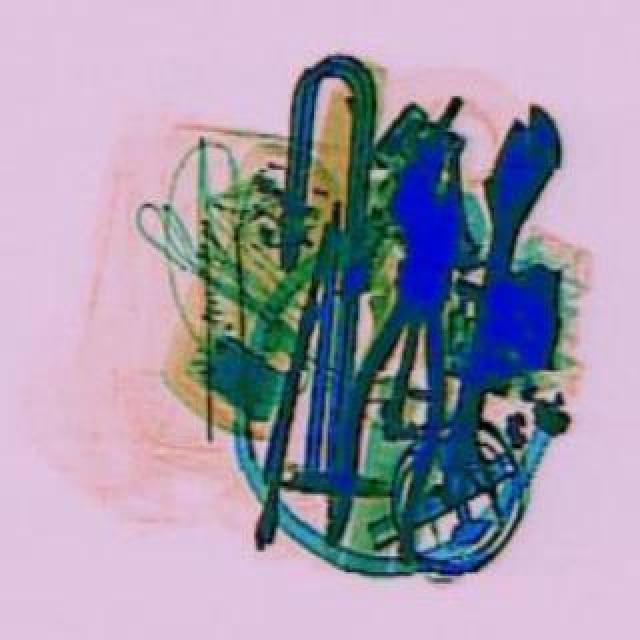scissors: (416, 92, 568, 508)
wrench: (310, 132, 492, 564)
